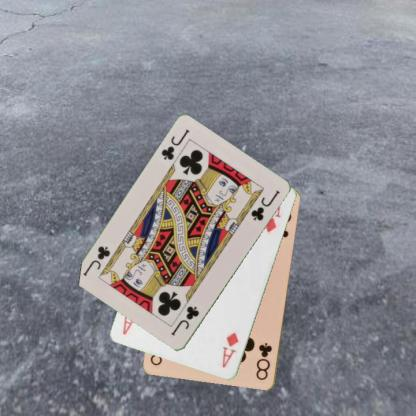8c: (254, 340, 273, 382)
Ad: (220, 329, 240, 370)
Jc: (158, 127, 191, 162), (168, 304, 200, 337)
